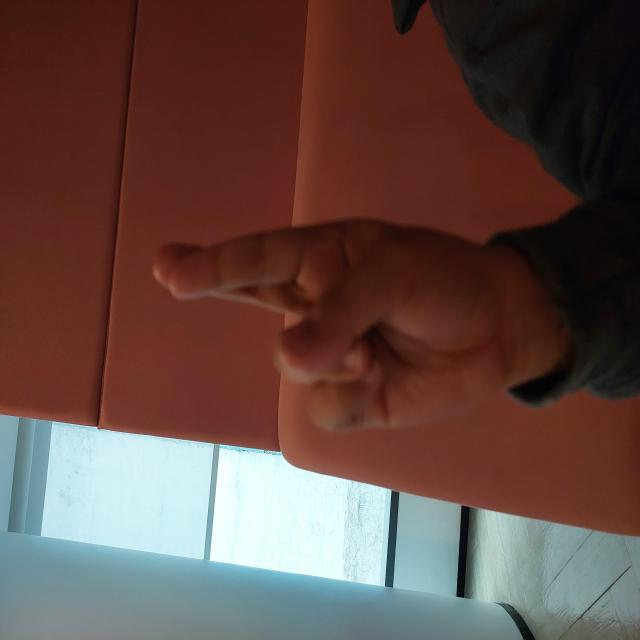R: (202, 145, 428, 516)
